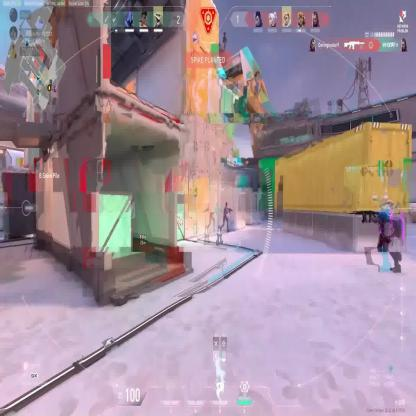enemy: (221, 201, 230, 232)
enemy_head: (225, 202, 228, 208)
